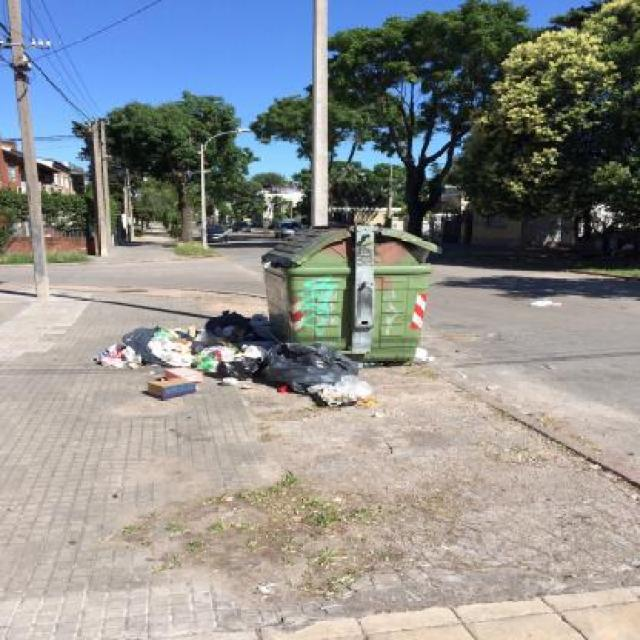garbage: (108, 309, 281, 406), (251, 332, 370, 404)
